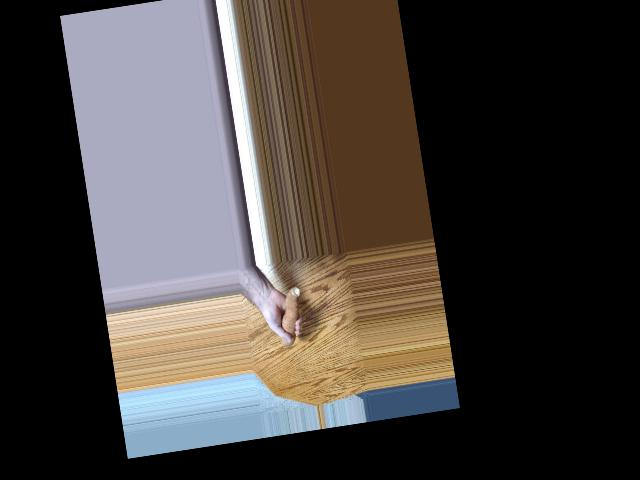sweet_potato: (274, 283, 307, 349)
